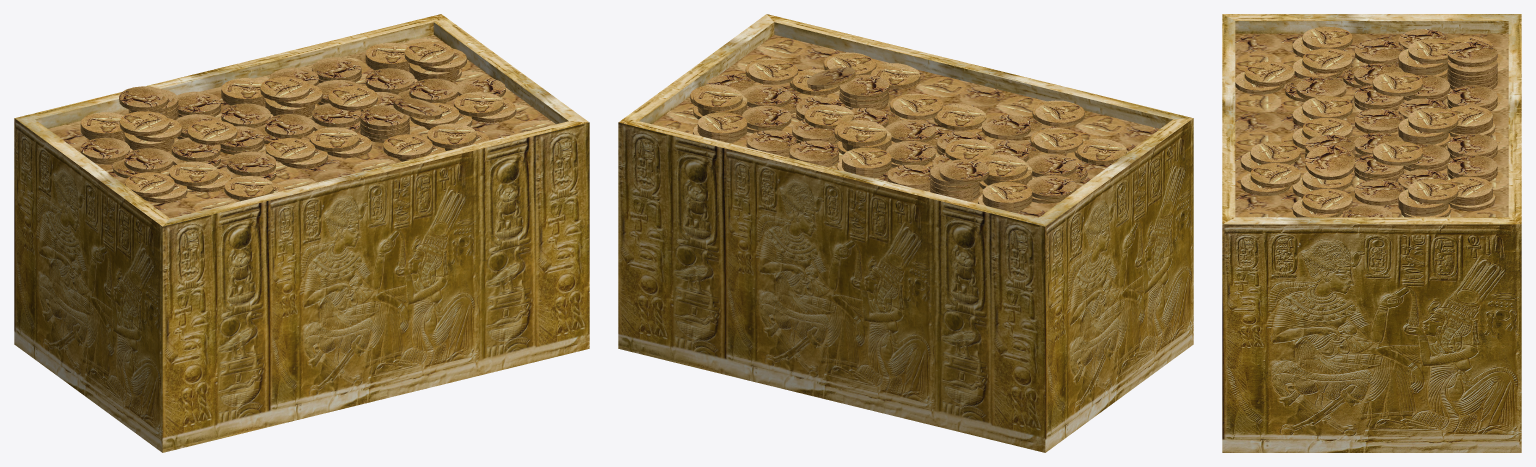
Rendered from Chest.FBX.
3 renders of one model, left to right at view 1: azimuth 30°, elevation 25°; view 2: azimuth 150°, elevation 25°; view 3: azimuth 270°, elevation 25°, orthographic.
Visible parts, largest first — view 1: chest; view 2: chest; view 3: chest.
Boxes of the visible parts, x1,y1,x2,y2 form: chest: [14, 14, 589, 452]; chest: [618, 14, 1193, 452]; chest: [1222, 14, 1521, 452].
Size of the model in its own units: 163 by 87.58 by 98.13.
Materials: 2 (2 with a texture image).
